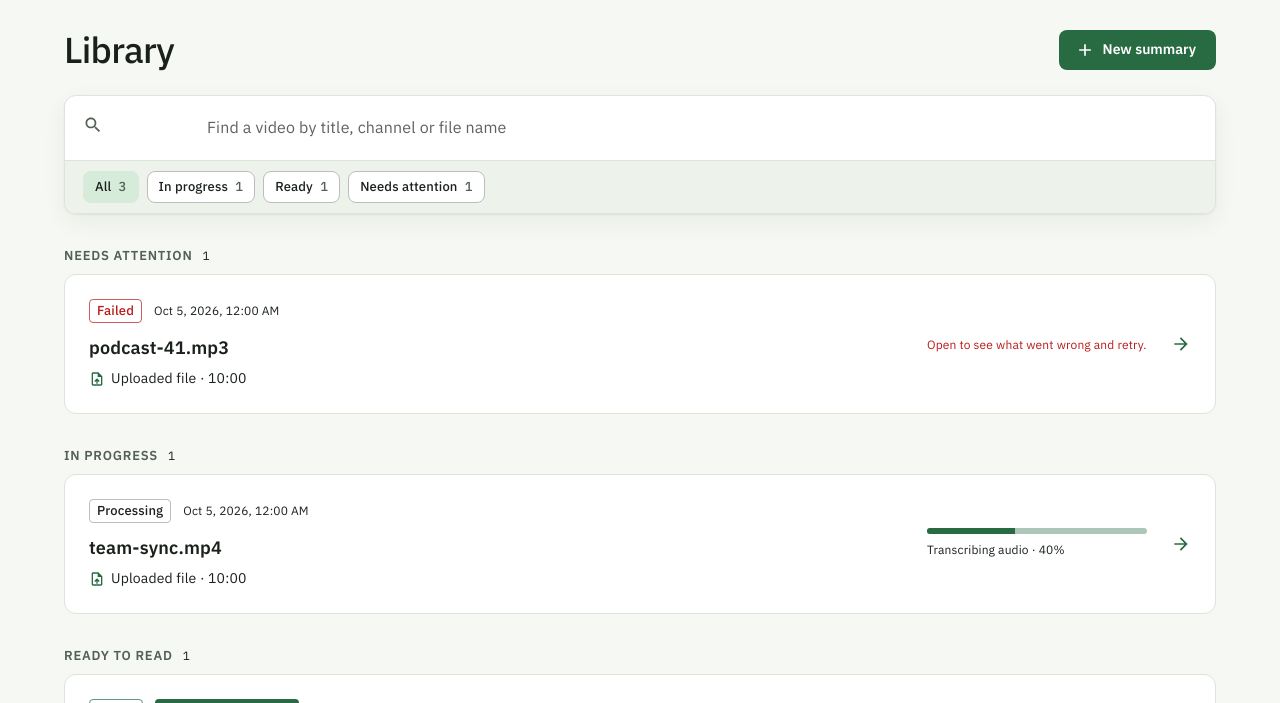
Test case: LibraryPage › offers a way back when nothing matches
This screenshot has width=1280, height=703.
Type "kubernetes" into the search field named "Search your library" at (700, 128), box [207,112,1193,144]
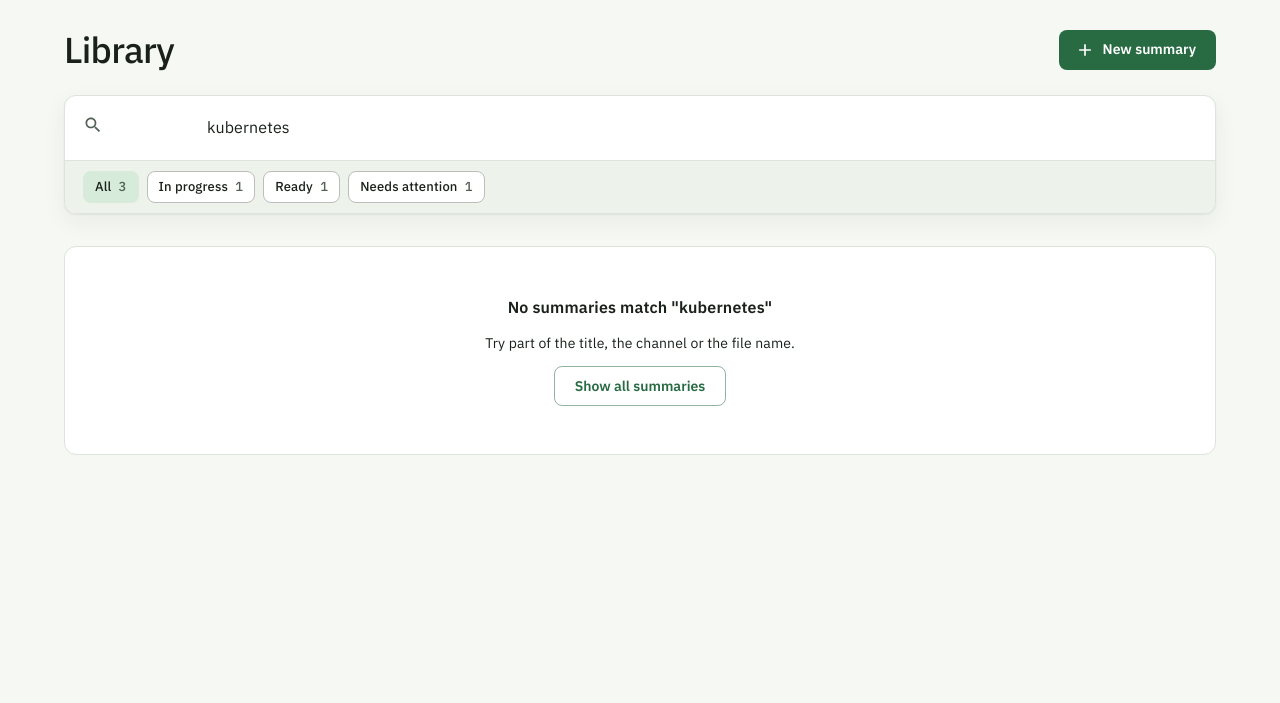
Expected: the text "No summaries match \"kubernetes\"" is shown, [508,297,772,317]
Click the button "Show all summaries" at (640, 386), box [554,366,726,406]
(page scrolled)
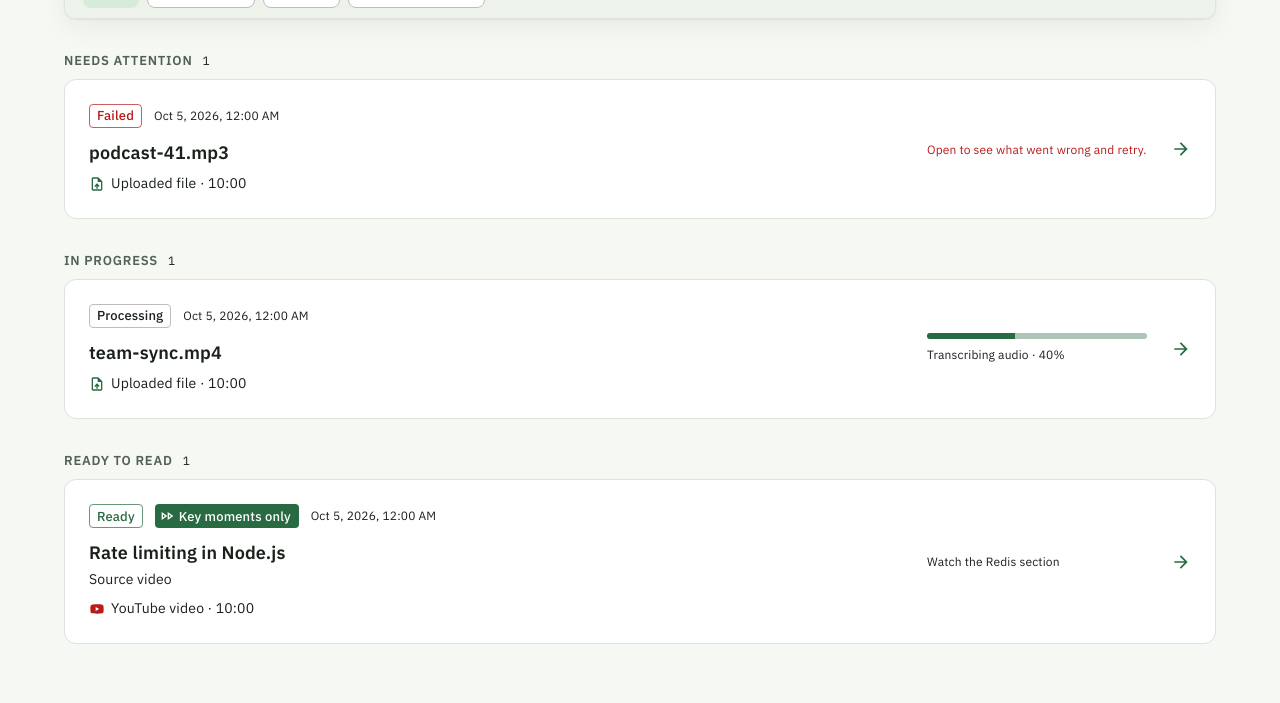
Expected: the heading "Rate limiting in Node.js" is shown, [89,541,286,564]
